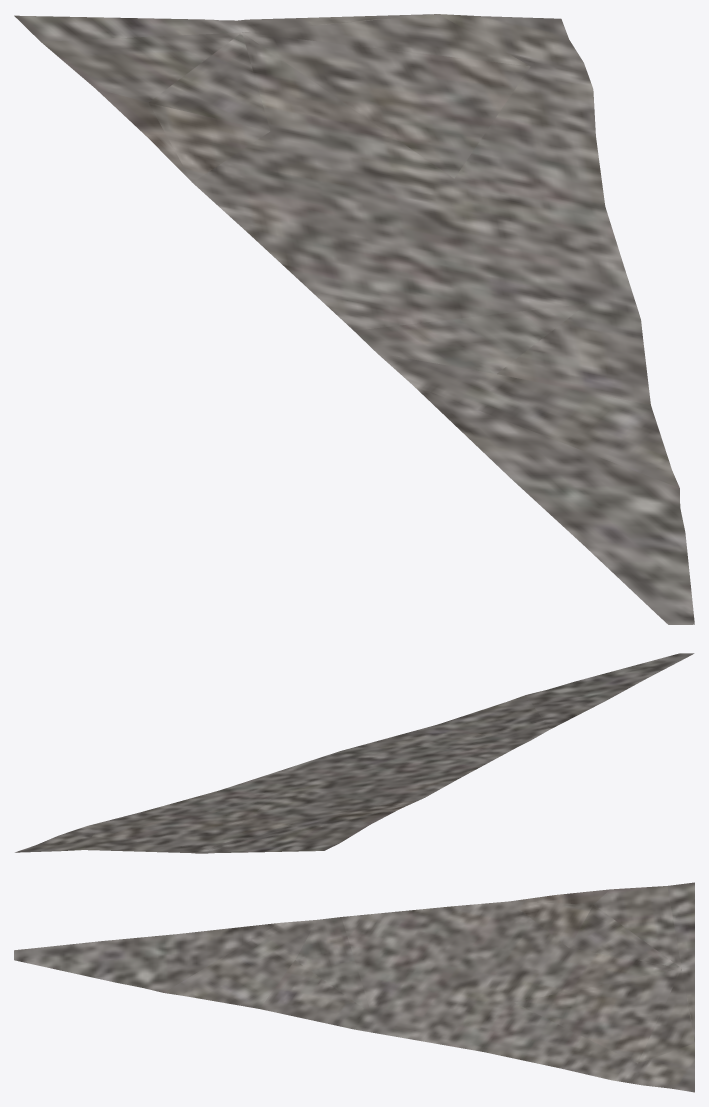
3 views of the same model, one above another, from view 1: azimuth 30°, elevation 25°; view 2: azimuth 150°, elevation 25°; view 3: azimuth 270°, elevation 25° (orthographic). The views are drawn at different scales.
Bounding box in the file's own units: 0.4044 × 0.0964 × 0.8374.
Materials: 1 (1 with a texture image).
